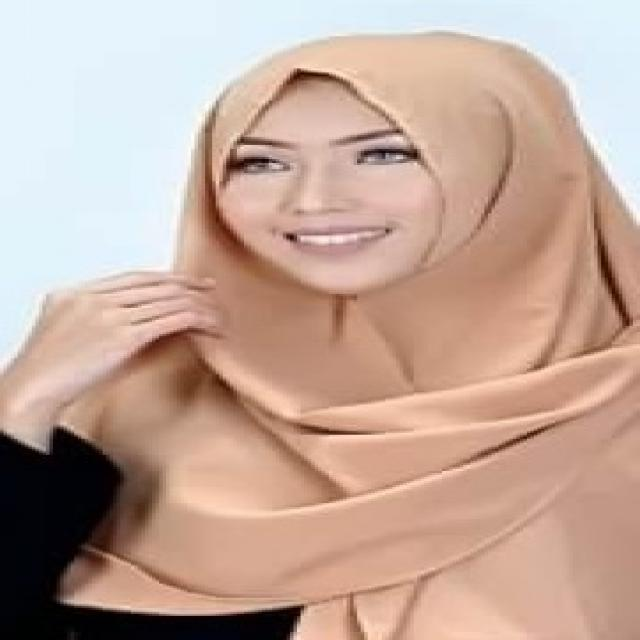head: (195, 26, 517, 302)
